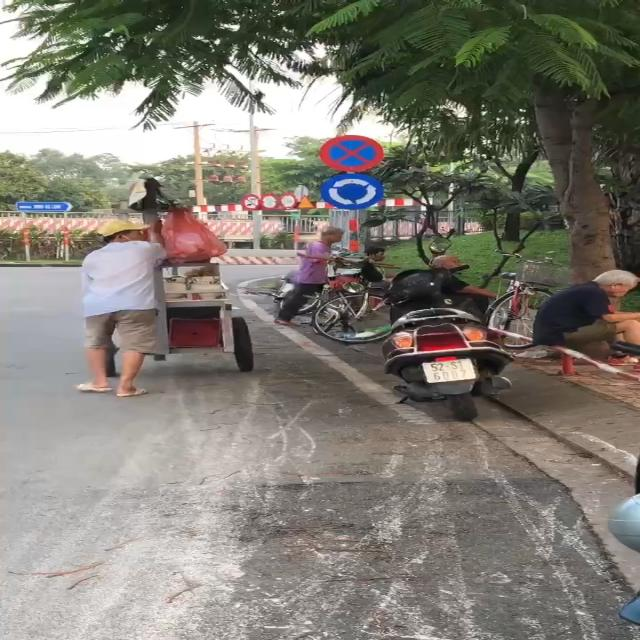Bien bao cam dung xe va do xe: (310, 132, 388, 172)
Bien bao noi giao nhau chay theo vong xuyen: (318, 172, 382, 210)
